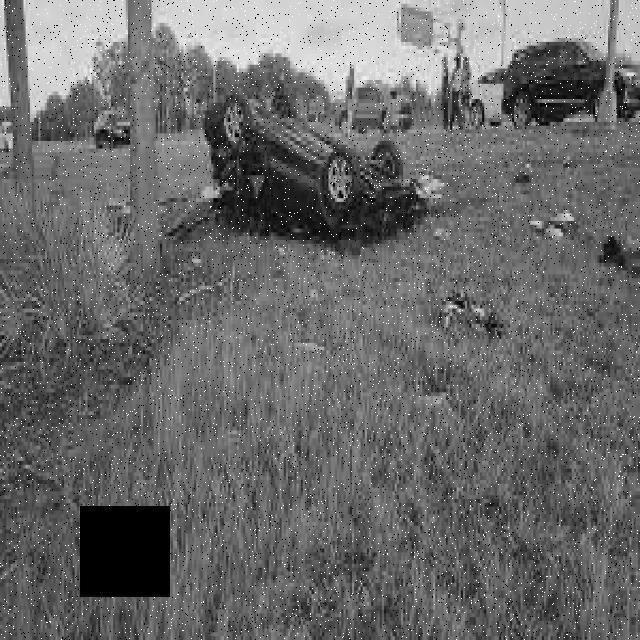accident: (198, 75, 431, 250)
vehicle: (508, 45, 640, 127), (333, 78, 410, 134), (91, 102, 137, 150), (473, 65, 501, 129), (0, 111, 20, 157)
